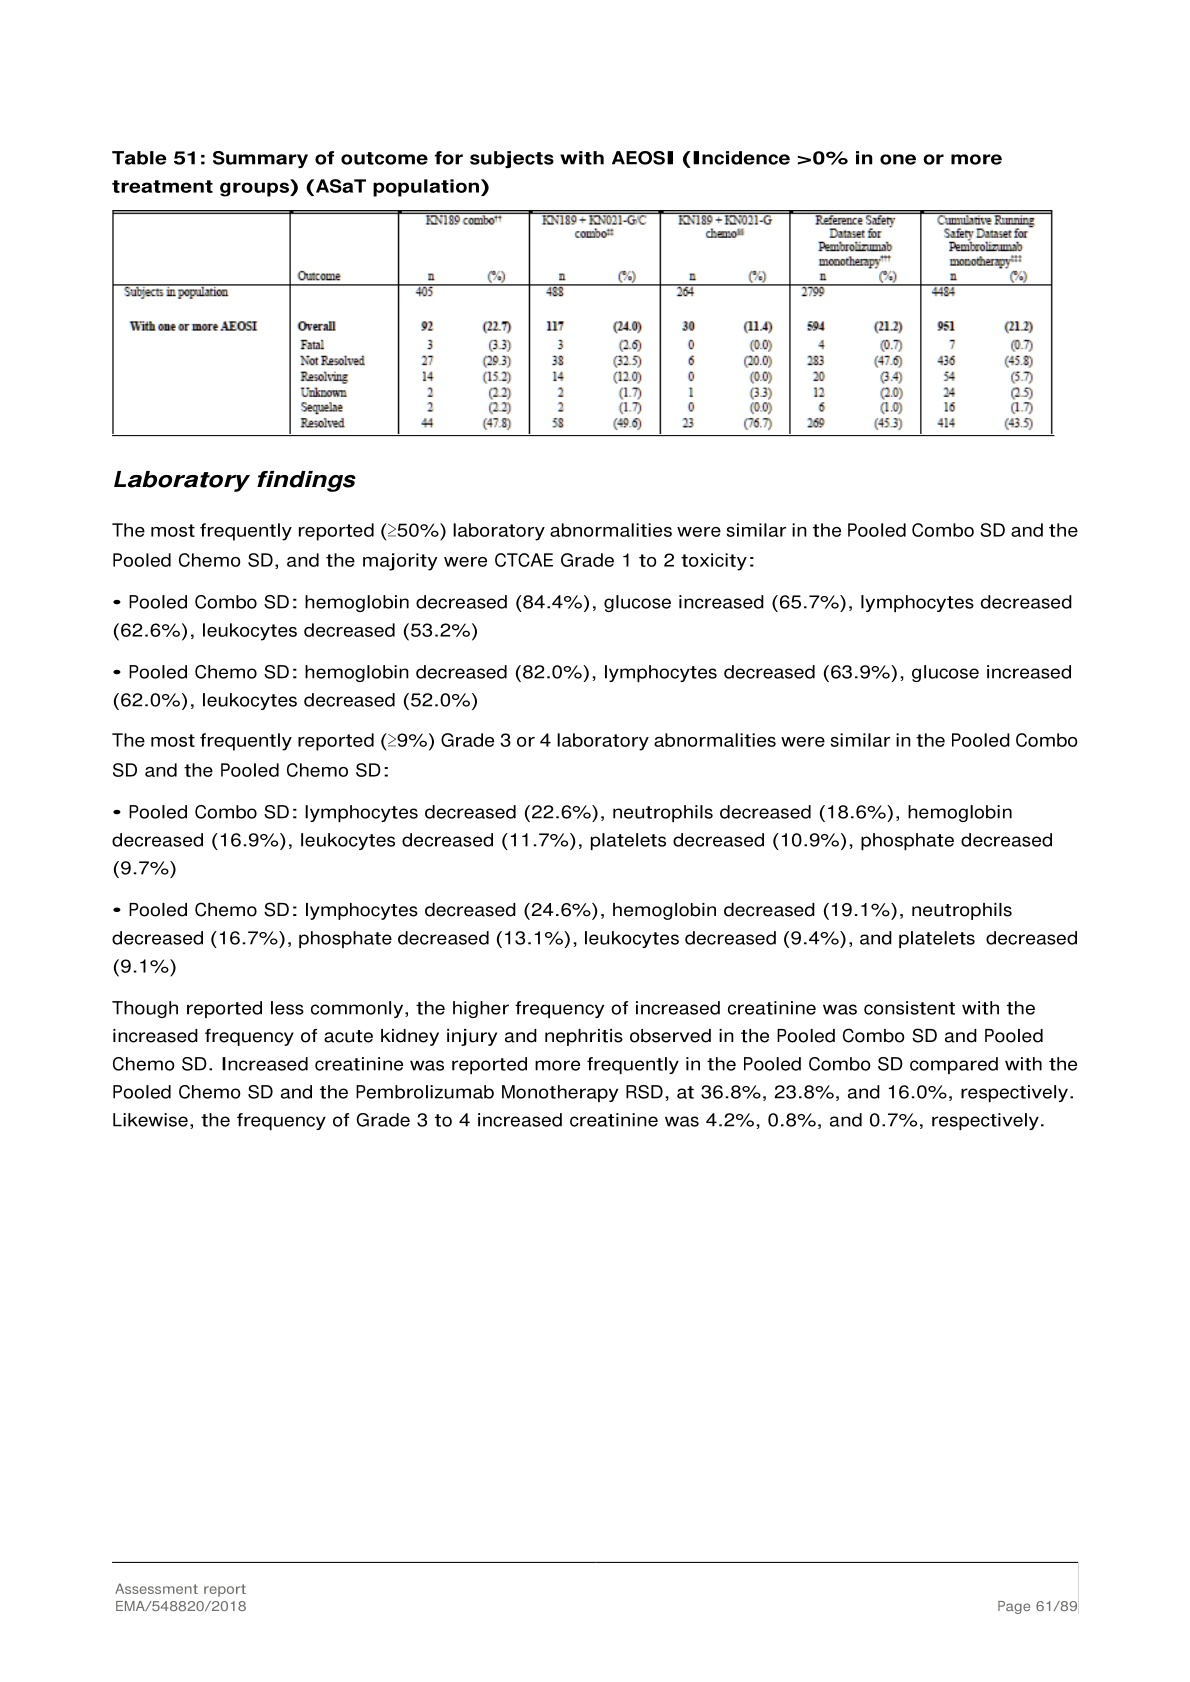partial_lined_merged_cells: (111, 209, 1053, 437)
